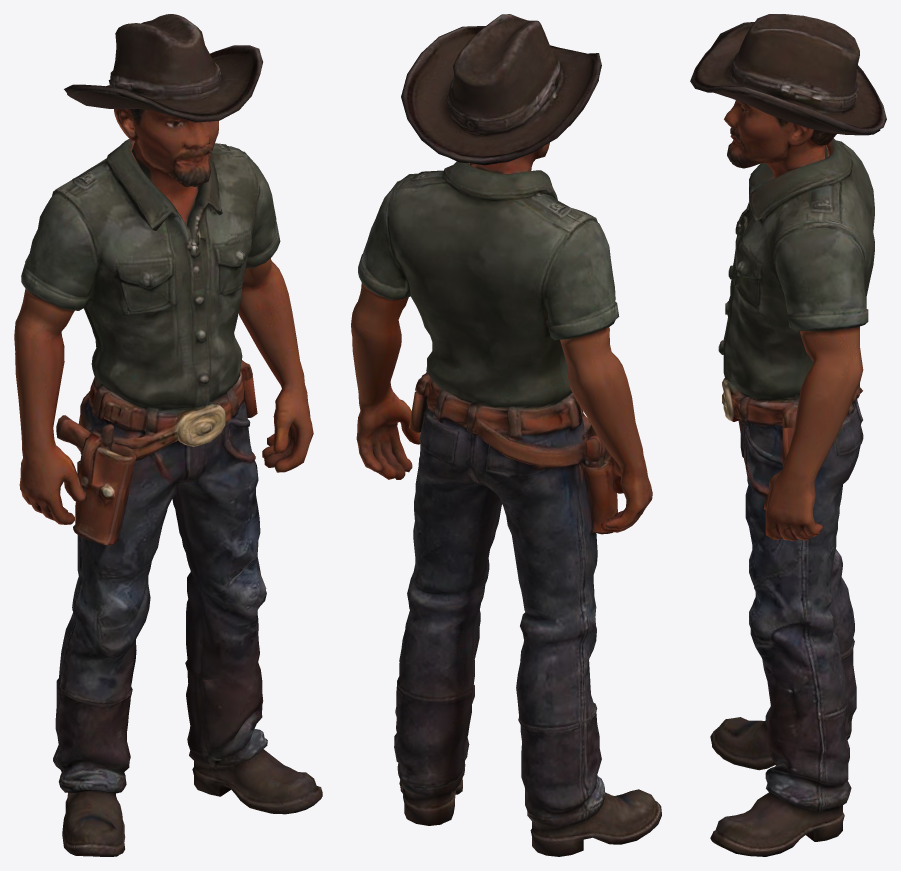
The model's file is cowboy.90b78d74e1.glb.
3 renders of one model, left to right at view 1: azimuth 30°, elevation 25°; view 2: azimuth 150°, elevation 25°; view 3: azimuth 270°, elevation 25°, orthographic. The views are drawn at different scales.
Parts seen in each view (by area): view 1: cowboy; view 2: cowboy; view 3: cowboy.
Boxes of the visible parts, x1,y1,x2,y2 form: cowboy: [14, 14, 322, 856]; cowboy: [351, 14, 661, 856]; cowboy: [690, 14, 886, 856].
Size of the model in its own units: 0.3687 by 0.9761 by 0.2235.
1 material, 1 textured.
